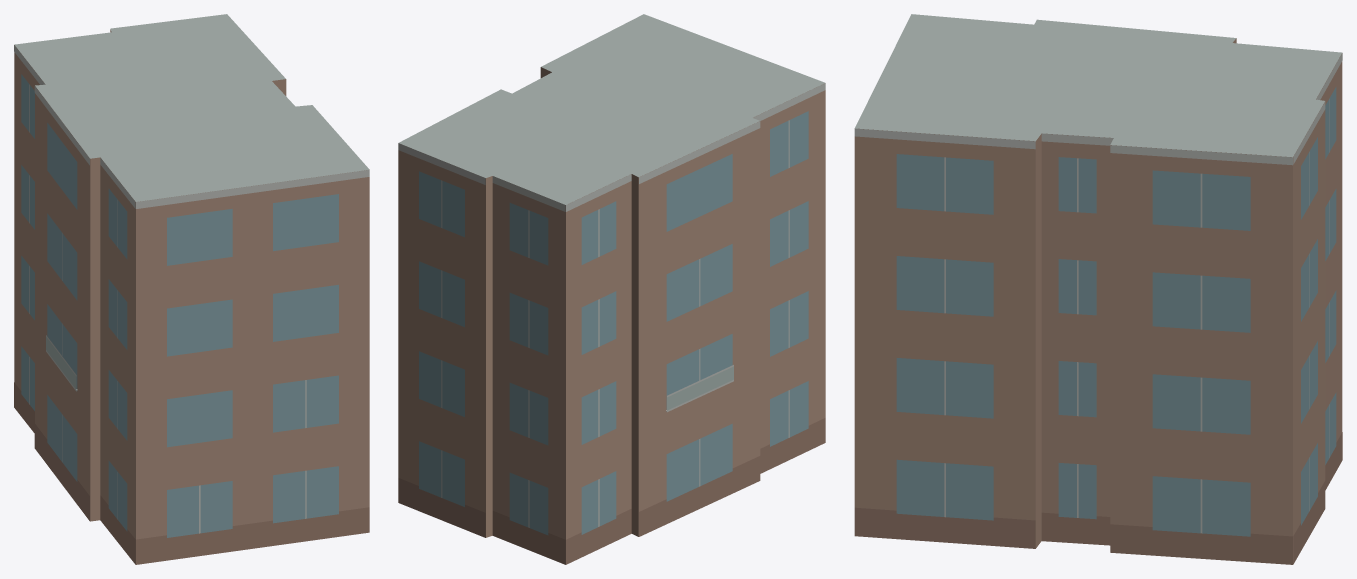
Rendered from survey-upis-32971955.glb.
The picture shows the model from 3 angles, left to right: view 1: azimuth 30°, elevation 25°; view 2: azimuth 150°, elevation 25°; view 3: azimuth 270°, elevation 25°; orthographic projection. The views are drawn at different scales.
Parts seen in each view (by area): view 1: survey-upis-32971955.tmp; view 2: survey-upis-32971955.tmp; view 3: survey-upis-32971955.tmp.
Boxes of the visible parts, x1,y1,x2,y2 form: survey-upis-32971955.tmp: [14, 14, 369, 564]; survey-upis-32971955.tmp: [398, 14, 825, 564]; survey-upis-32971955.tmp: [854, 14, 1342, 564].
Size of the model in its own units: 9.35 by 12.4 by 13.46.
